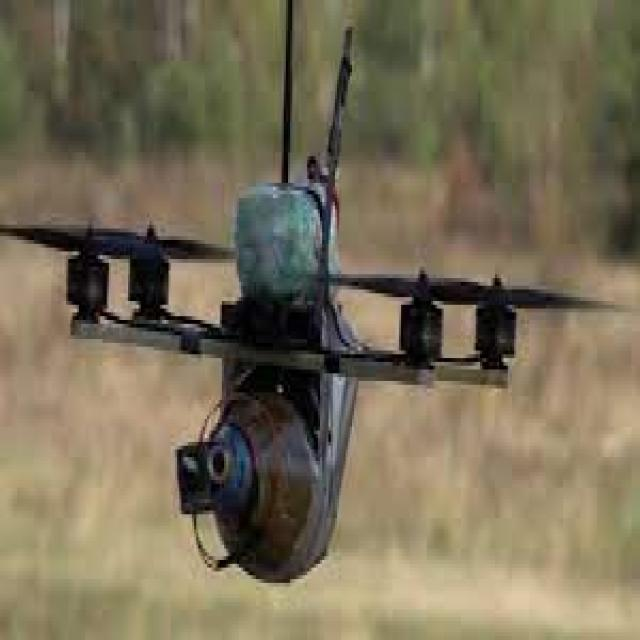drone: (1, 5, 622, 590)
